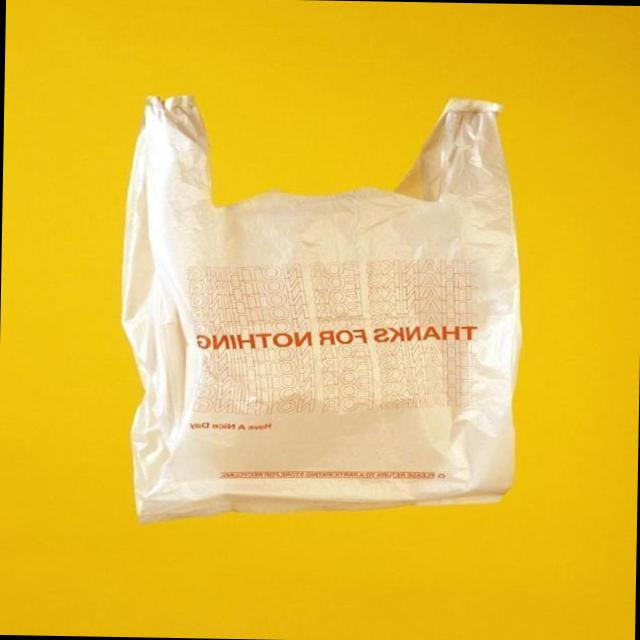KantongPlastik: (116, 89, 526, 528)
